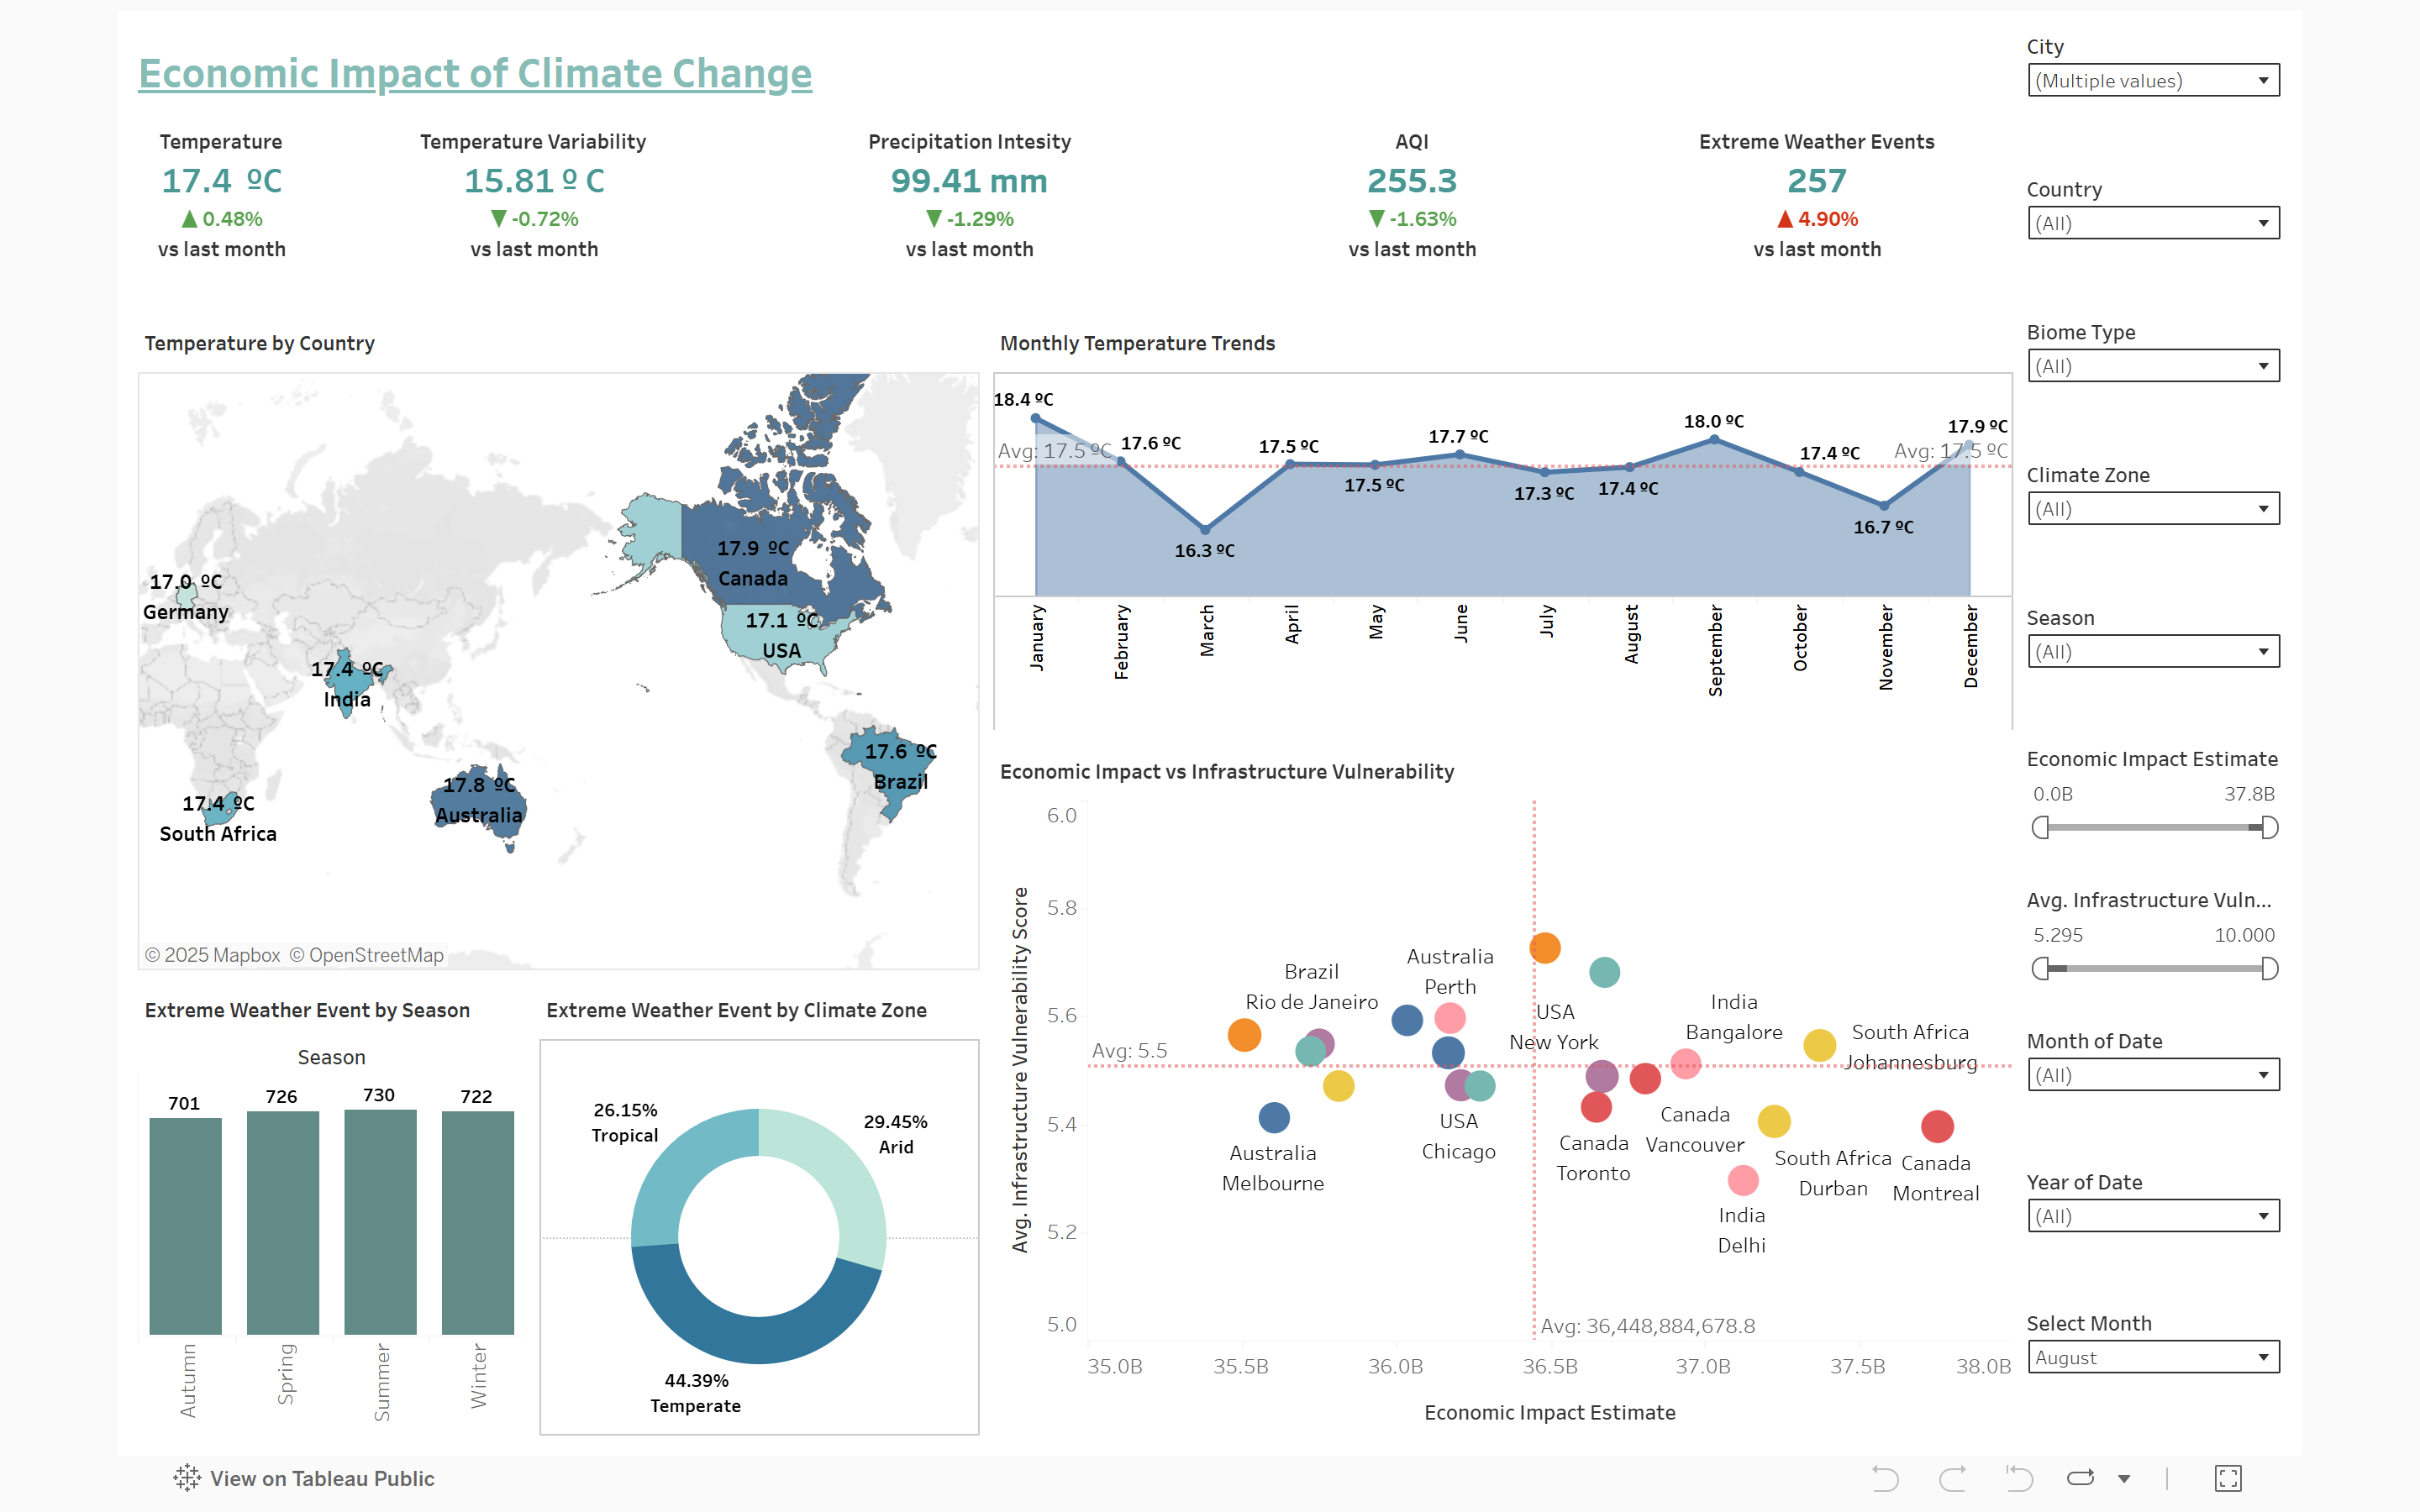

What the dashboard file says about the page in this screenshot:
{"tool":"tableau","page":{"name":"Dashboard 2","canvas":[1000,1000],"units":"permille","ordinal":0},"visuals":[{"type":"title","box":[6.2,12.1,864.6,65.1]},{"type":"filter","title":"Sheet 16","param":"[federated.0zzjvqi13qnsf41cef6ne1vg7du6].[none:City:nk]","box":[870.8,12.1,123.1,98.5]},{"type":"worksheet","title":"Temp 2","mark":"Automatic","box":[6.2,77.2,120,131.8]},{"type":"worksheet","title":"Temperature Variability 2","mark":"Automatic","box":[126.2,77.2,206.9,131.8]},{"type":"worksheet","title":"Precipitation 2","mark":"Automatic","box":[333.1,77.2,166.9,131.8]},{"type":"worksheet","title":"AQI 2","mark":"Automatic","box":[500,77.2,185.4,131.8]},{"type":"worksheet","title":"EWE 2","mark":"Automatic","box":[685.4,77.2,185.4,131.8]},{"type":"filter","title":"Sheet 16","param":"[federated.0zzjvqi13qnsf41cef6ne1vg7du6].[none:Country:nk]","box":[870.8,110.6,123.1,98.5]},{"type":"worksheet","title":"Temperature by Country","mark":"Automatic","box":[6.2,209,391.5,459.1]},{"type":"worksheet","title":"Monthly Temperature Trends","mark":"Area","rows":["Calculation_2121758428038053908","Calculation_2121758428038053908"],"cols":["Date"],"box":[397.7,209,473.1,294.1]},{"type":"filter","title":"Sheet 16","param":"[federated.0zzjvqi13qnsf41cef6ne1vg7du6].[none:Biome Type:nk]","box":[870.8,209.1,123.1,98.5]},{"type":"filter","title":"Sheet 16","param":"[federated.0zzjvqi13qnsf41cef6ne1vg7du6].[none:Climate Zone:nk]","box":[870.8,307.6,123.1,98.5]},{"type":"filter","title":"Sheet 16","param":"[federated.0zzjvqi13qnsf41cef6ne1vg7du6].[none:Season:nk]","box":[870.8,406.1,123.1,97]},{"type":"worksheet","title":"Sheet 16","mark":"Circle","rows":["Infrastructure Vulnerability Score"],"cols":["Economic Impact Estimate"],"box":[397.7,503,473.1,484.9]},{"type":"filter","title":"Sheet 16","param":"[federated.0zzjvqi13qnsf41cef6ne1vg7du6].[sum:Economic Impact Estimate:qk]","box":[870.8,503,123.1,97]},{"type":"filter","title":"Sheet 16","param":"[federated.0zzjvqi13qnsf41cef6ne1vg7du6].[avg:Infrastructure Vulnerability Score","box":[870.8,600,123.1,97]},{"type":"worksheet","title":"Extreme Weather Event by Season","mark":"Automatic","rows":["Calculation_2121758427987734528"],"cols":["Season"],"box":[6.2,668.1,183.8,319.8]},{"type":"worksheet","title":"Extreme weather events by climate zone","mark":"Pie","rows":["Calculation_2121758428079984677","Calculation_2121758428079984677"],"box":[190,668.1,207.7,319.8]},{"type":"filter","title":"Sheet 16","param":"[federated.0zzjvqi13qnsf41cef6ne1vg7du6].[mn:Date:ok]","box":[870.8,697,123.1,97]},{"type":"filter","title":"Sheet 16","param":"[federated.0zzjvqi13qnsf41cef6ne1vg7du6].[yr:Date:ok]","box":[870.8,793.9,123.1,97]},{"type":"parameter","param":"[Parameters].[Parameter 1]","box":[870.8,890.9,123.1,97]}]}

Visuals, with their boxes on the dashboard's canvas, which has no fixed pixel size, in thousandths of its width and height (x1, y1, x2, y2). These are canvas units, not pixel positions in the 2420x1512 screenshot, which may show the page scaled, cropped or inside an application window:
title: 6/12/871/77
"Sheet 16" filter: 871/12/994/111
"Temp 2" worksheet: 6/77/126/209
"Temperature Variability 2" worksheet: 126/77/333/209
"Precipitation 2" worksheet: 333/77/500/209
"AQI 2" worksheet: 500/77/685/209
"EWE 2" worksheet: 685/77/871/209
"Sheet 16" filter: 871/111/994/209
"Temperature by Country" worksheet: 6/209/398/668
"Monthly Temperature Trends" worksheet (Area marks): 398/209/871/503
"Sheet 16" filter: 871/209/994/308
"Sheet 16" filter: 871/308/994/406
"Sheet 16" filter: 871/406/994/503
"Sheet 16" worksheet (Circle marks): 398/503/871/988
"Sheet 16" filter: 871/503/994/600
"Sheet 16" filter: 871/600/994/697
"Extreme Weather Event by Season" worksheet: 6/668/190/988
"Extreme weather events by climate zone" worksheet (Pie marks): 190/668/398/988
"Sheet 16" filter: 871/697/994/794
"Sheet 16" filter: 871/794/994/891
parameter: 871/891/994/988
